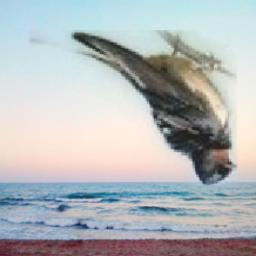Swallow: (31, 31, 238, 186)
